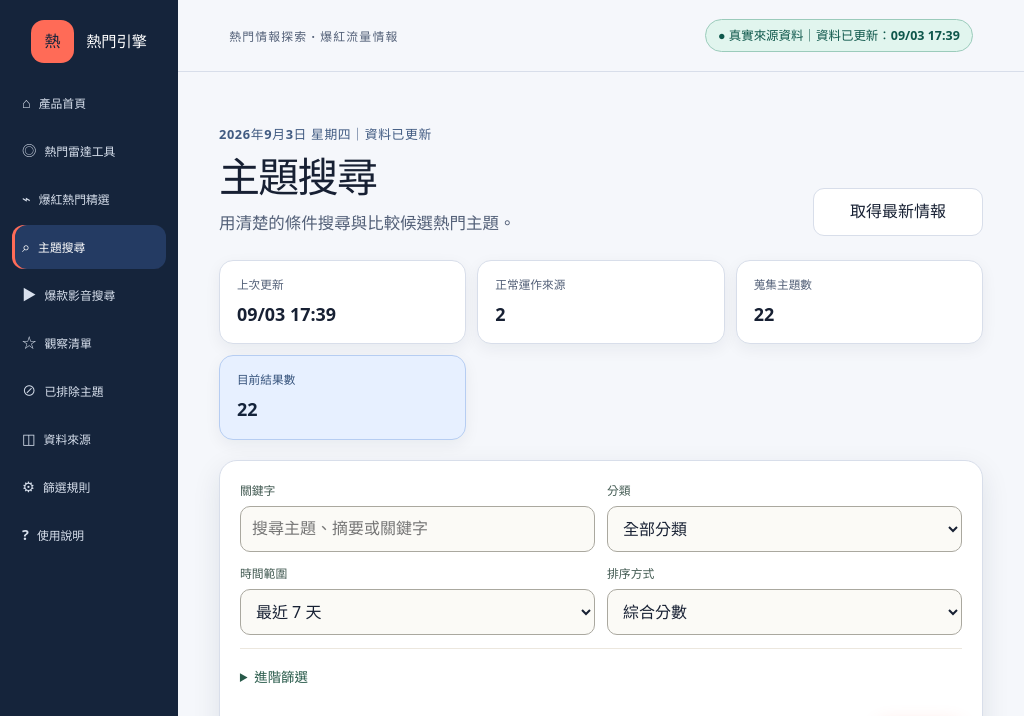
Test: RC2搜尋篩選使用性 › 清除條件後回到預設狀態
Step 1. Type "AI" into the field named "關鍵字搜尋" → (418, 529), box [240,506,595,552]
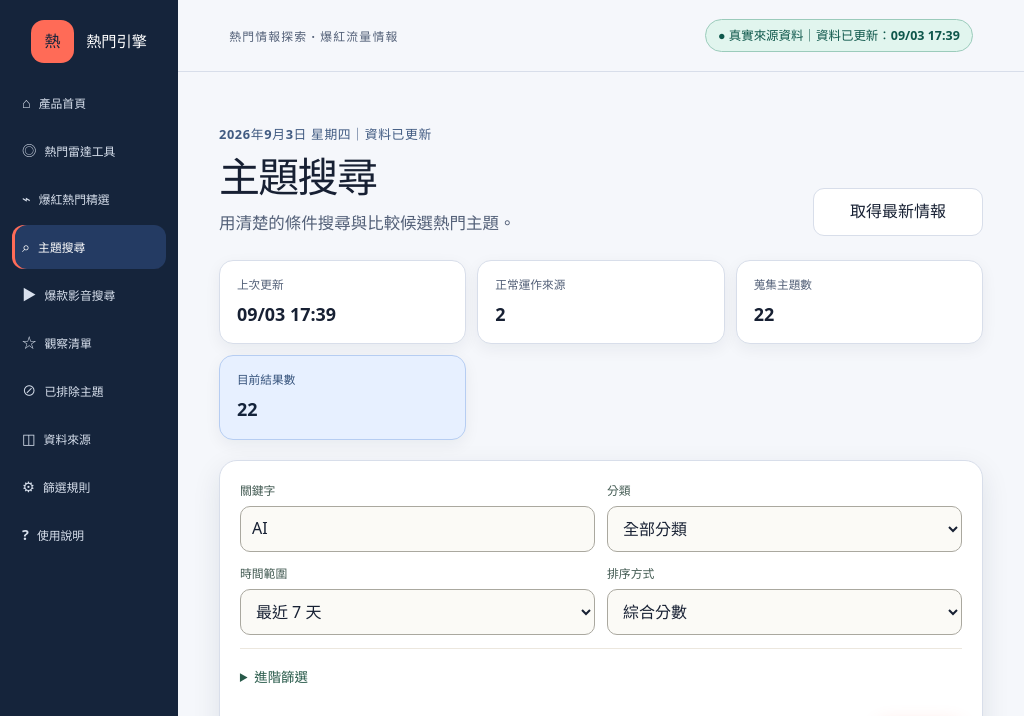
Step 2. Click the heading "進階篩選" → (281, 677), box [254,668,308,686]
(page scrolled)
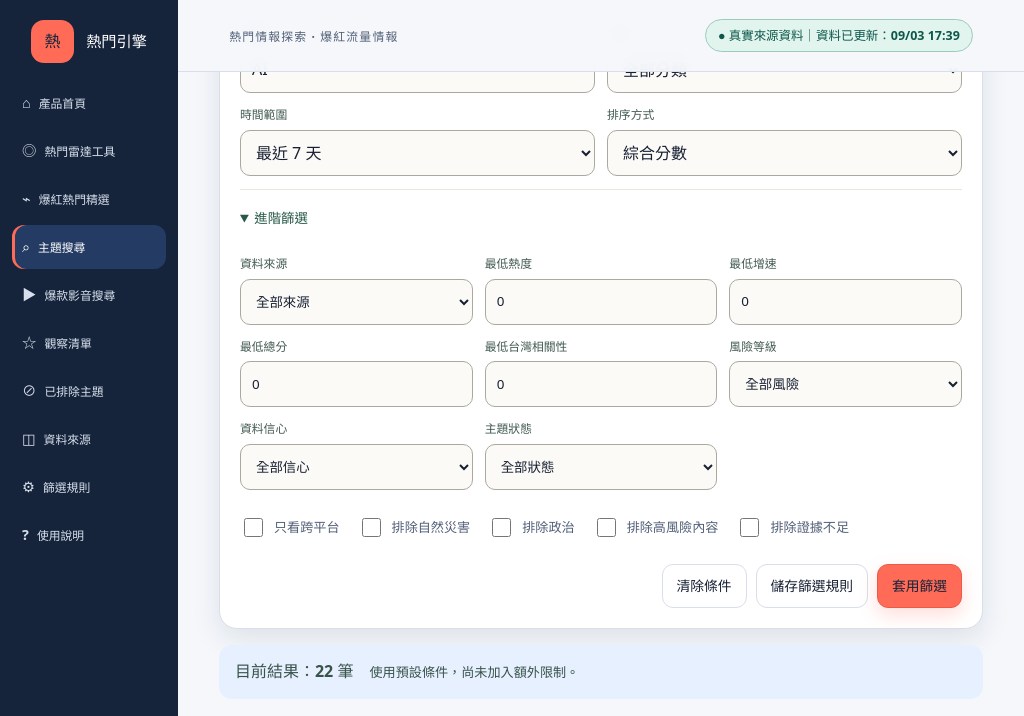
Step 3. Replace the text in the number field labelled "最低總分" with "80" → (356, 384), box [240,362,473,408]
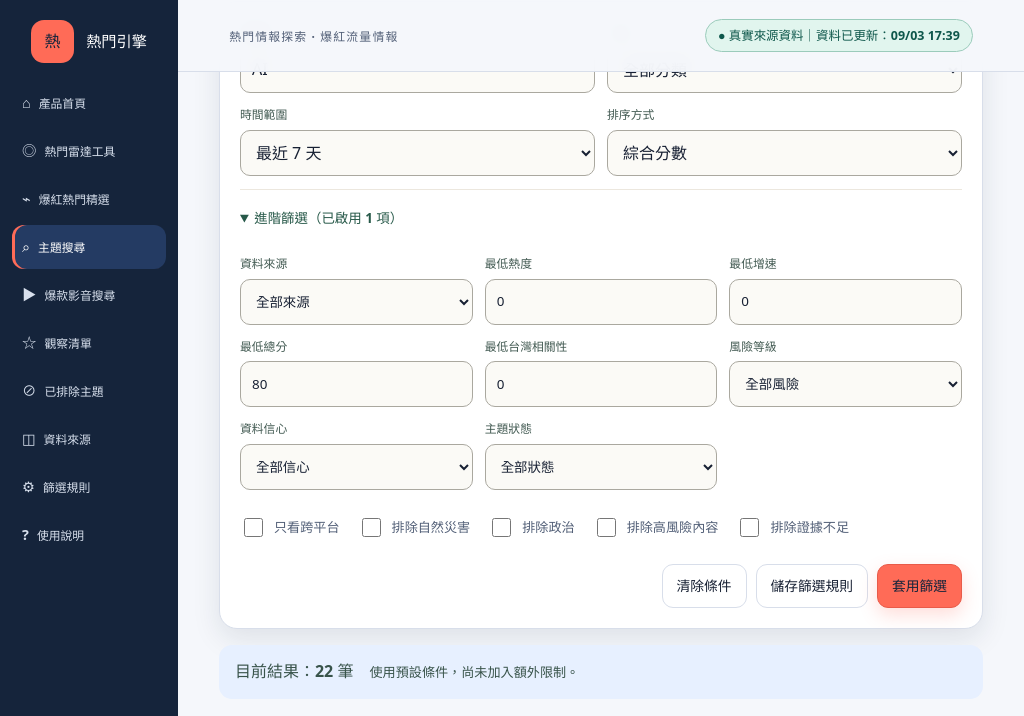
Step 4. Click the button "清除條件" → (704, 586), box [662,564,746,608]
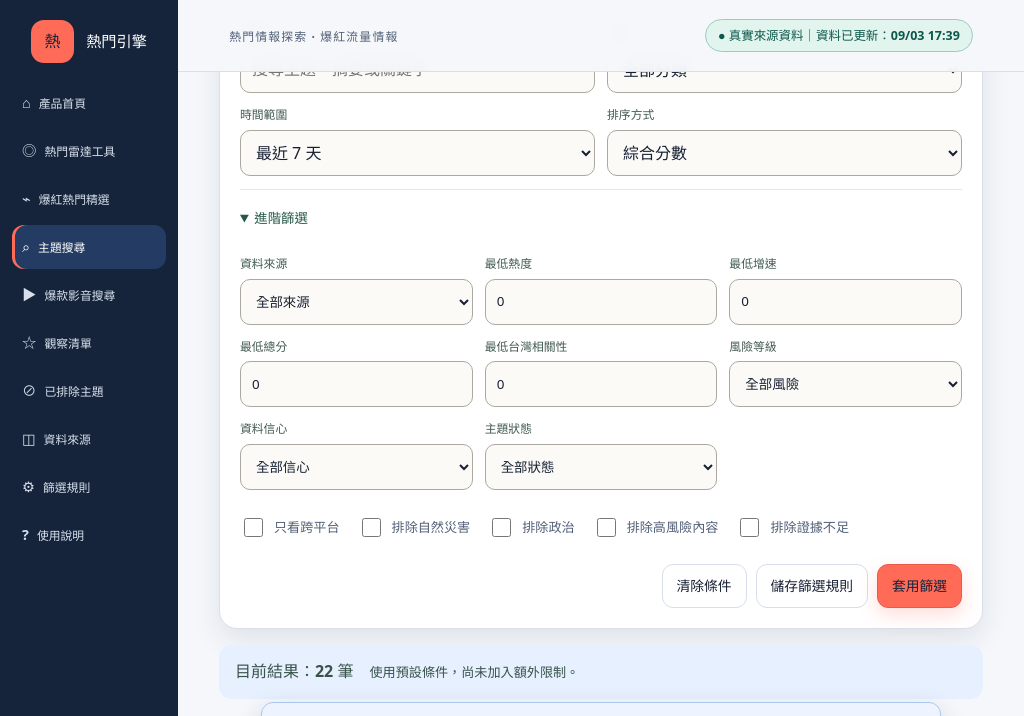
Check: the field named "關鍵字搜尋" is empty, box [240,47,595,93]
Check: the number field labelled "最低總分" holds "0", box [240,362,473,408]
